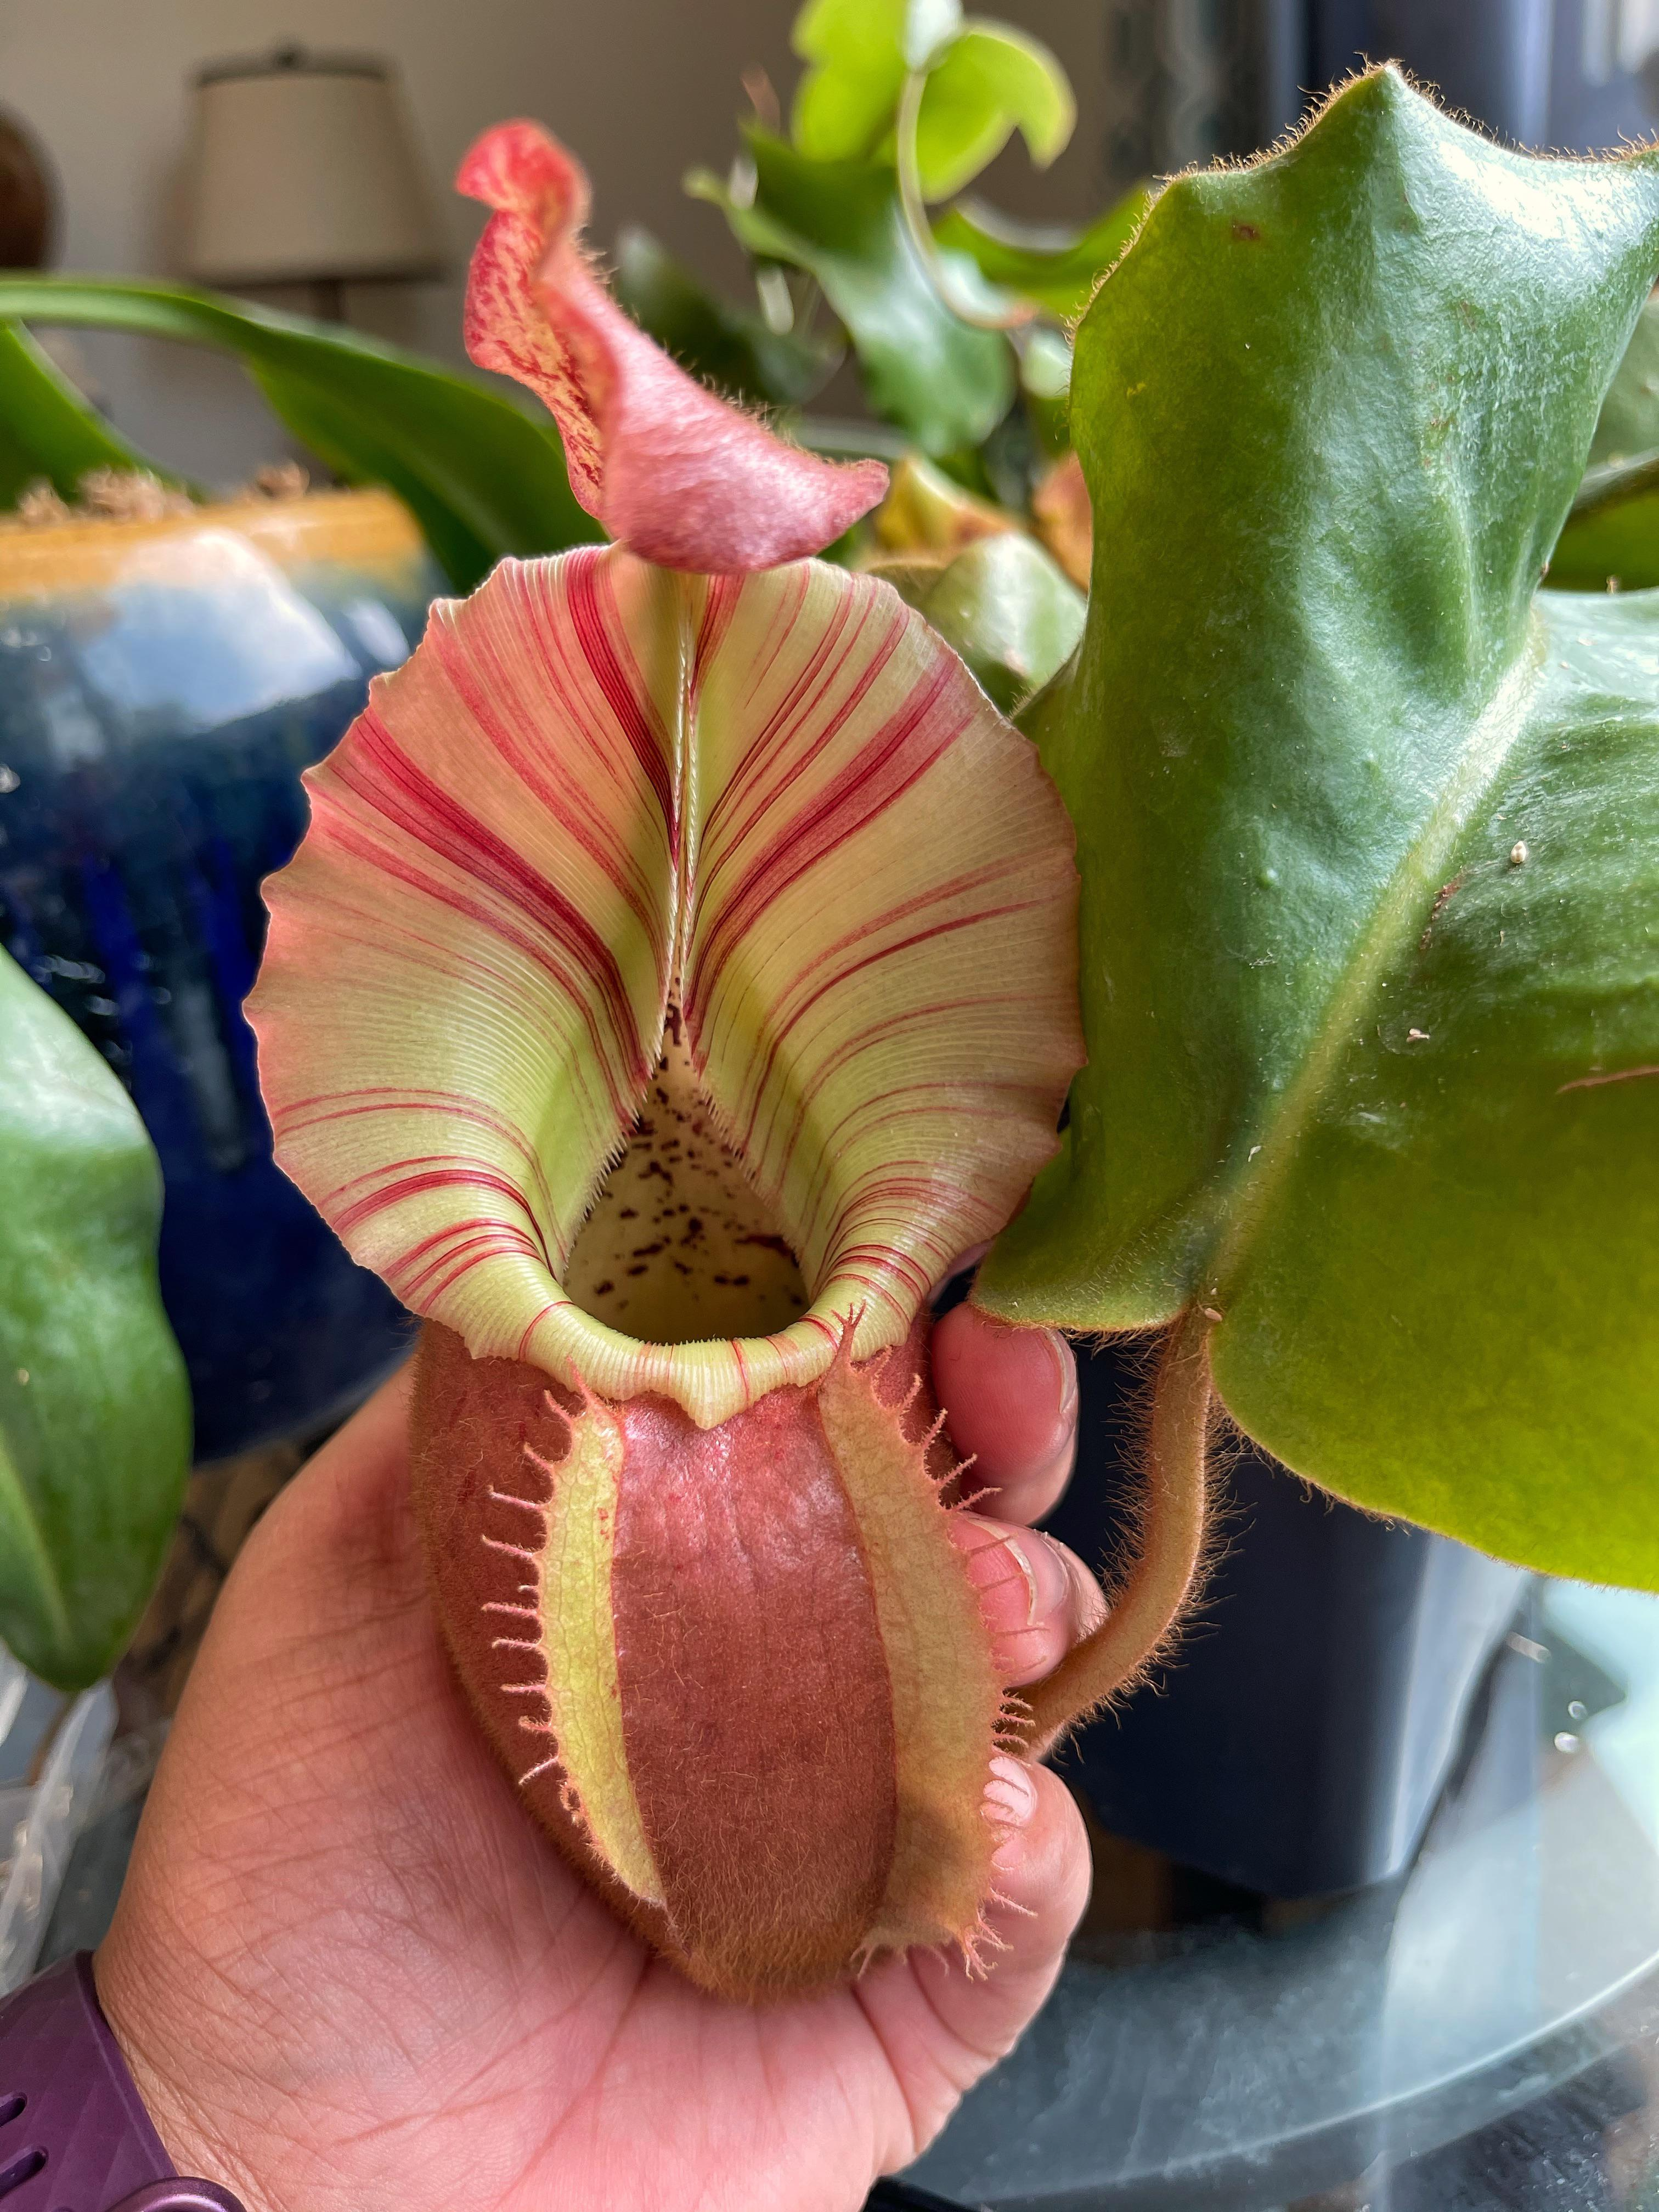veitchii: (146, 70, 1370, 2040)
